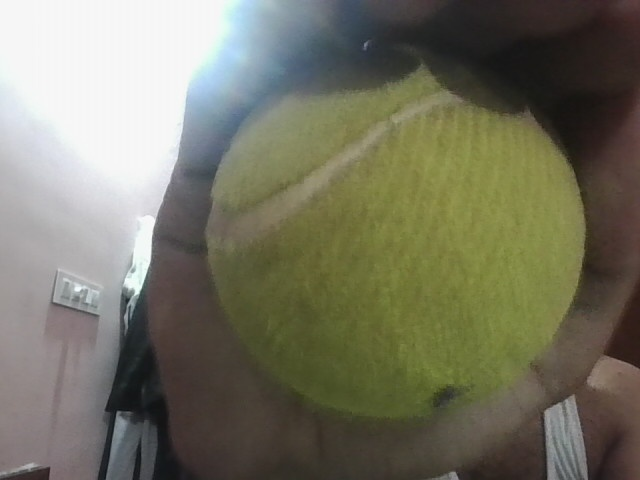greenball: (207, 43, 587, 418)
